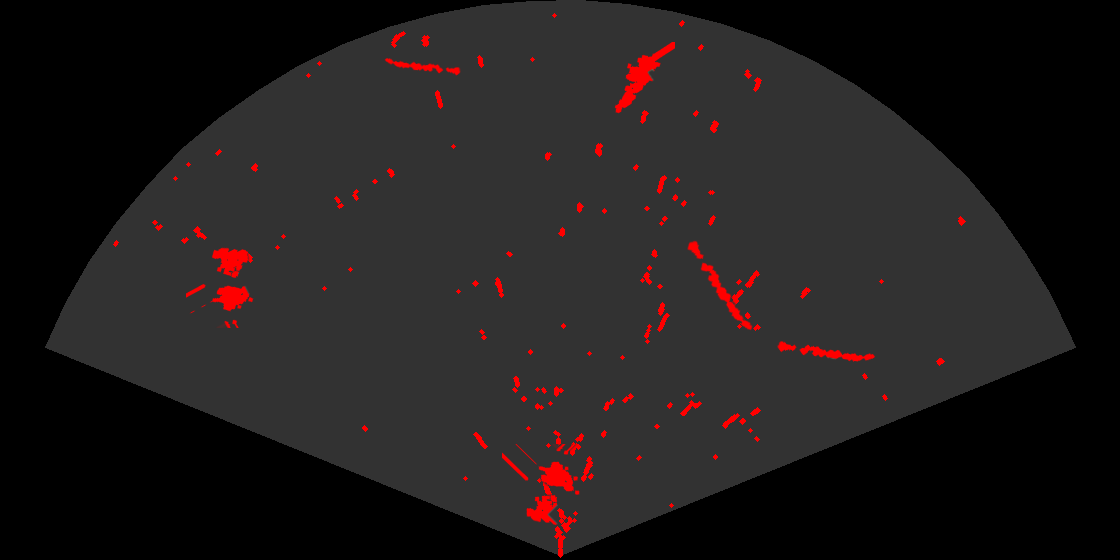cage: (502, 444, 581, 527), (186, 246, 255, 328)
chain: (686, 239, 754, 332), (775, 340, 877, 363), (383, 57, 461, 77)
frogman: (613, 42, 675, 115)
